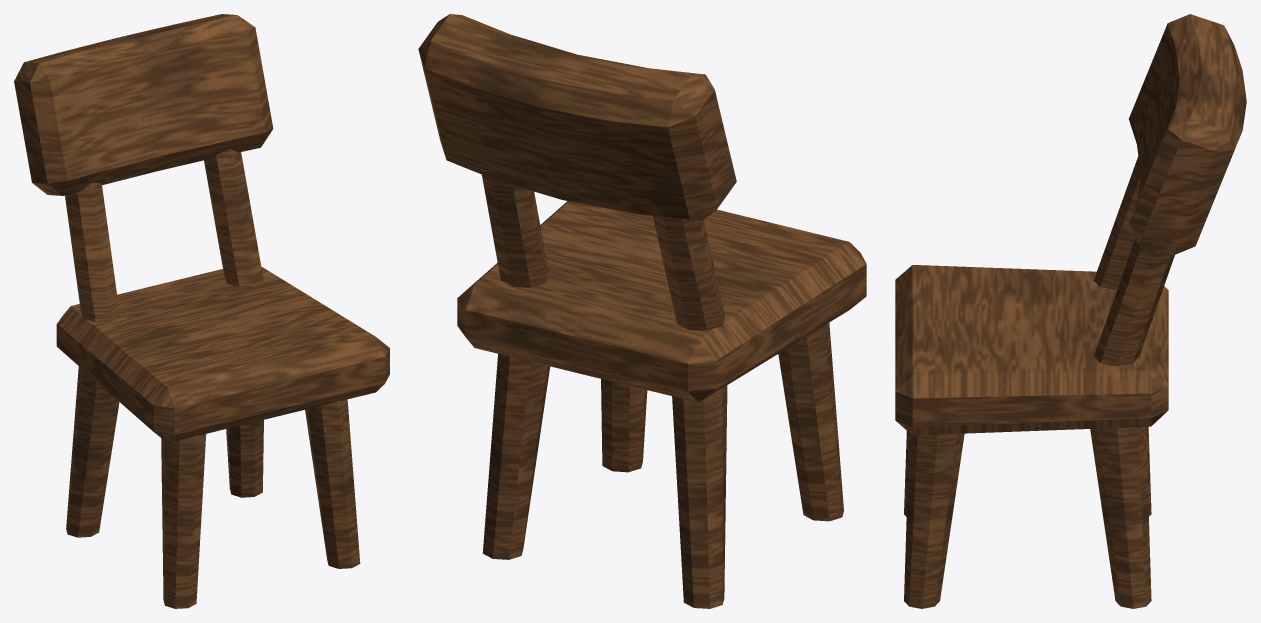
The model's file is Chair.fbx.
3 views of the same model, side by side, from view 1: azimuth 30°, elevation 25°; view 2: azimuth 150°, elevation 25°; view 3: azimuth 270°, elevation 25° (orthographic). The views are drawn at different scales.
Parts seen in each view (by area): view 1: chair_top.001, chair_rest.001, chair_leg.001, chair_top_arms.001; view 2: chair_top.001, chair_rest.001, chair_leg.001, chair_top_arms.001; view 3: chair_top.001, chair_rest.001, chair_leg.001, chair_top_arms.001.
Part boxes in pixels (box(x1,y1,x2,y2)): chair_top.001: box(56, 266, 389, 442); chair_rest.001: box(14, 14, 273, 195); chair_leg.001: box(66, 366, 360, 608); chair_top_arms.001: box(65, 149, 263, 322); chair_top.001: box(457, 201, 866, 402); chair_rest.001: box(418, 14, 736, 220); chair_leg.001: box(482, 323, 843, 608); chair_top_arms.001: box(482, 174, 725, 330); chair_top.001: box(895, 265, 1168, 435); chair_rest.001: box(1129, 14, 1246, 255); chair_leg.001: box(904, 426, 1151, 608); chair_top_arms.001: box(1093, 156, 1174, 365).
Size of the model in its own units: 0.5115 by 0.9358 by 0.607.
Materials: 1 (1 with a texture image).
